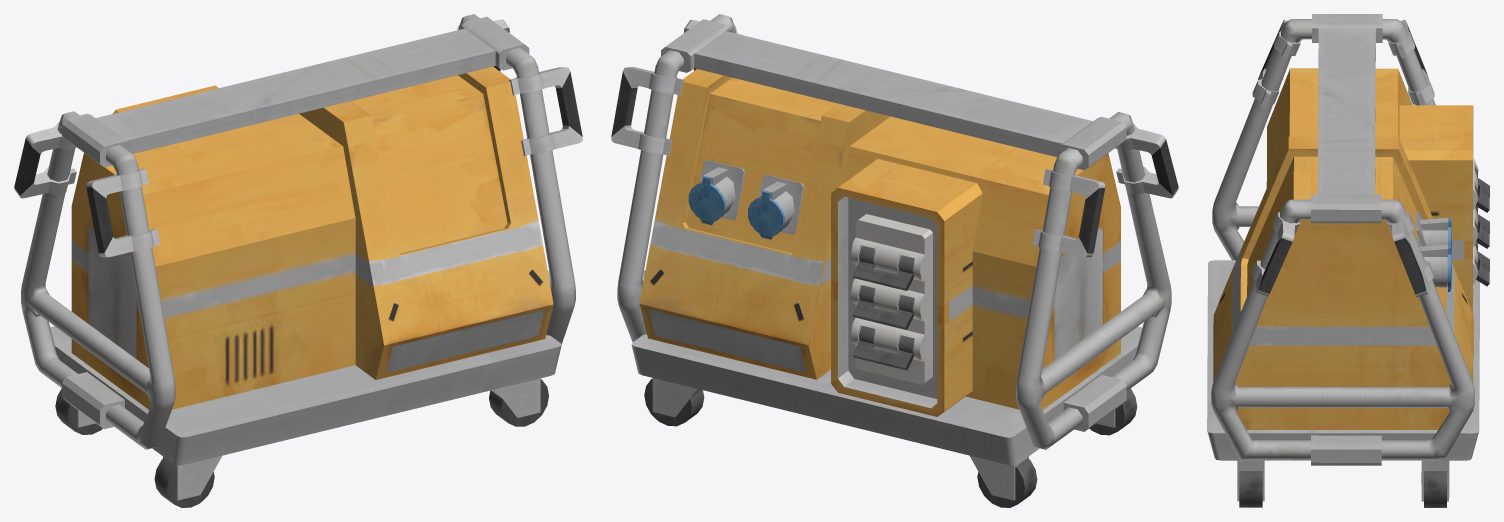
File: Demo_fadianji.FBX
3 renders of one model, left to right at view 1: azimuth 30°, elevation 25°; view 2: azimuth 150°, elevation 25°; view 3: azimuth 270°, elevation 25°, orthographic. The views are drawn at different scales.
Parts seen in each view (by area): view 1: Demo_fadianji; view 2: Demo_fadianji; view 3: Demo_fadianji.
Boxes of the visible parts, <box> form: Demo_fadianji: <box>14,14,582,507</box>; Demo_fadianji: <box>611,14,1178,507</box>; Demo_fadianji: <box>1207,14,1489,507</box>.
Bounding box in the file's own units: 1.93 × 1.33 × 1.07.
